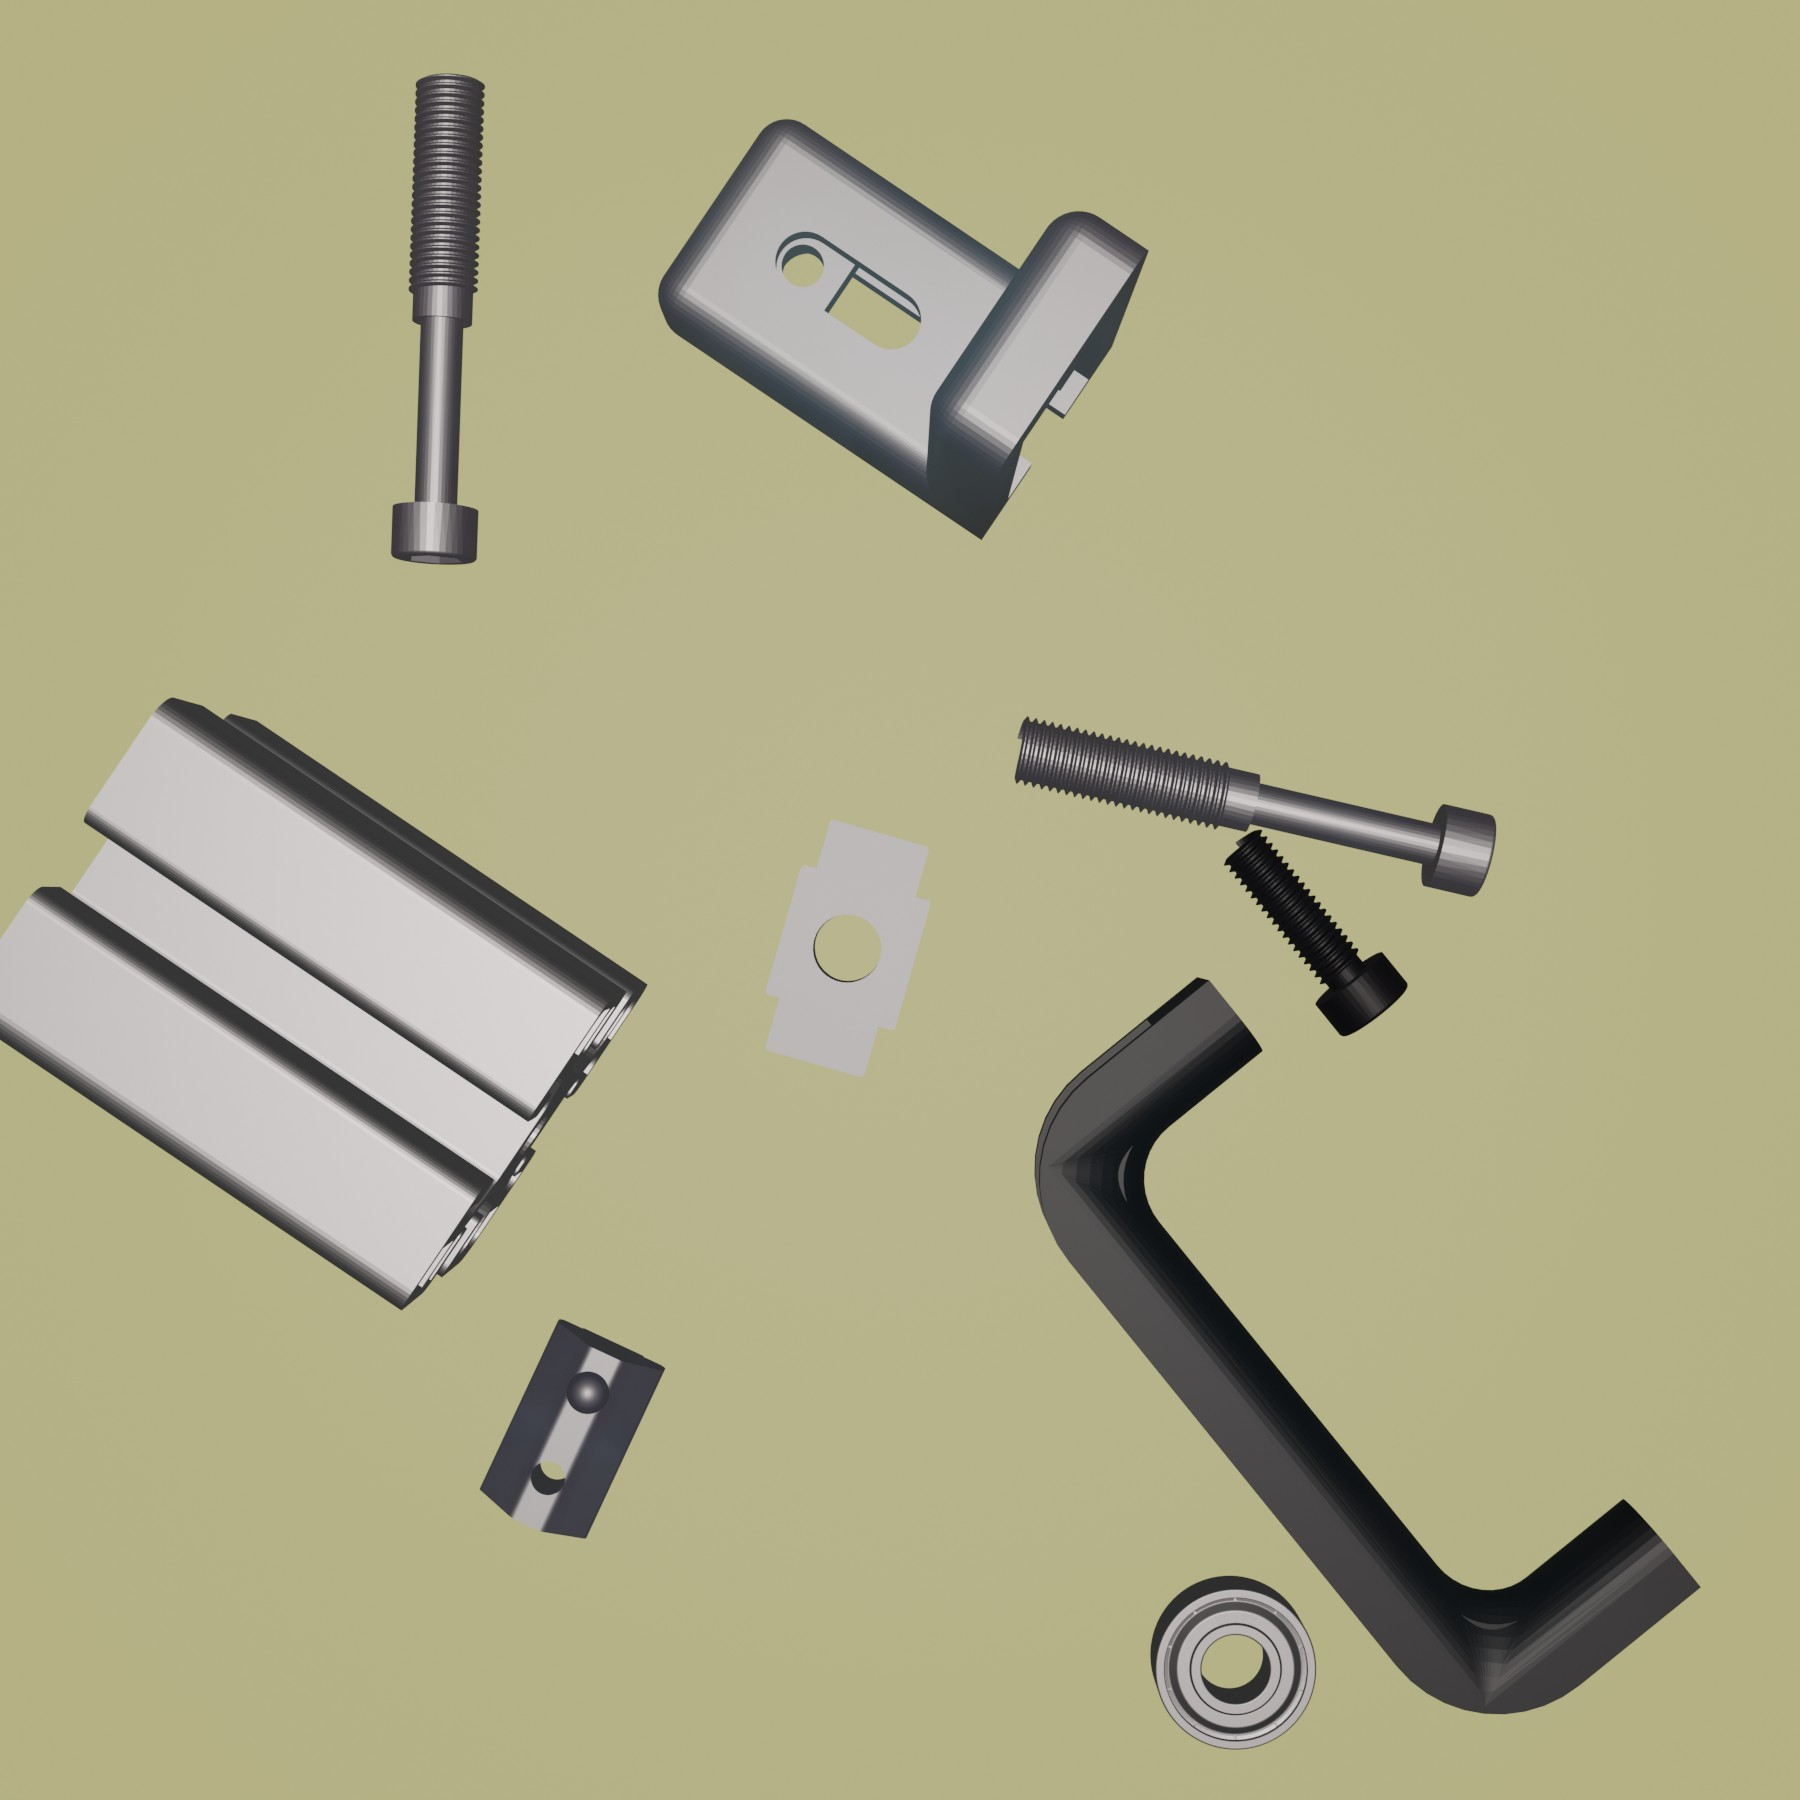Aluminium Extension: (2, 696, 648, 1312)
Ball Bearing: (1147, 1573, 1320, 1752)
Multiwinkel: (654, 115, 1151, 542)
Pull Handle: (1032, 977, 1703, 1714)
Shoulder Socket Head Cap Screw: (1009, 712, 1500, 902), (389, 69, 490, 570)
Socket Head Cap Screw: (1220, 823, 1409, 1037)
T Nut Square: (758, 814, 935, 1081)
T Spring Nut: (476, 1315, 666, 1541)
